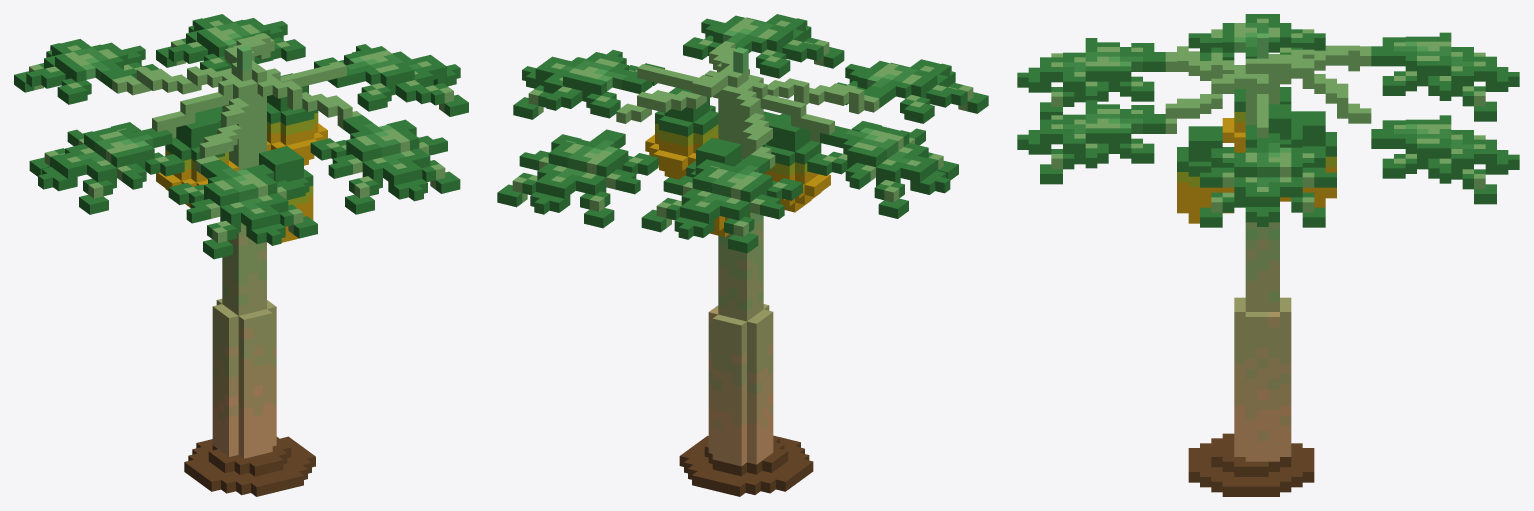
Rendered from Arbórea Exótica - Mamão.obj.
3 views of the same model, side by side, from view 1: azimuth 30°, elevation 25°; view 2: azimuth 150°, elevation 25°; view 3: azimuth 270°, elevation 25° (orthographic). The views are drawn at different scales.
Size of the model in its own units: 4.4 by 4.2 by 4.4.
1 material, 1 textured.
